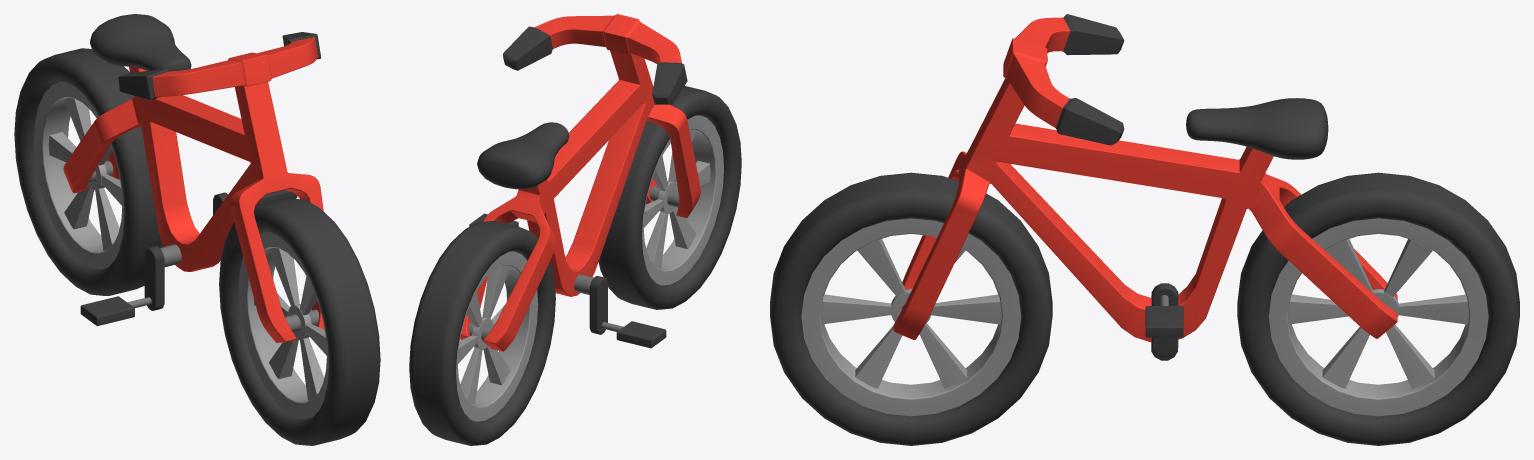
File: City_6_Bike_2.glb
3 views of the same model, side by side, from view 1: azimuth 30°, elevation 25°; view 2: azimuth 150°, elevation 25°; view 3: azimuth 270°, elevation 25° (orthographic). The views are drawn at different scales.
Visible parts, largest first — view 1: City_6_Bike_2; view 2: City_6_Bike_2; view 3: City_6_Bike_2.
Boxes of the visible parts, left/top/right/bottom form: City_6_Bike_2: left=14, top=14, right=380, bottom=445; City_6_Bike_2: left=409, top=14, right=741, bottom=445; City_6_Bike_2: left=770, top=14, right=1519, bottom=445.
Size of the model in its own units: 0.8624 by 1.41 by 2.44.
Materials: 1 (1 with a texture image).
